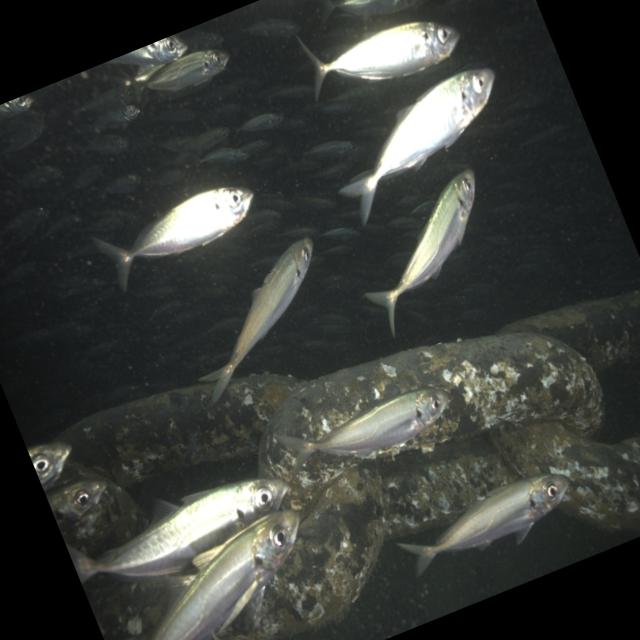ChainLink: (258, 332, 603, 535), (59, 374, 301, 555), (211, 465, 384, 640), (492, 421, 640, 530), (501, 292, 640, 373), (83, 574, 173, 640)
